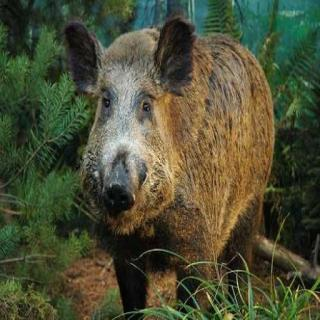Pig: (41, 21, 296, 320)
